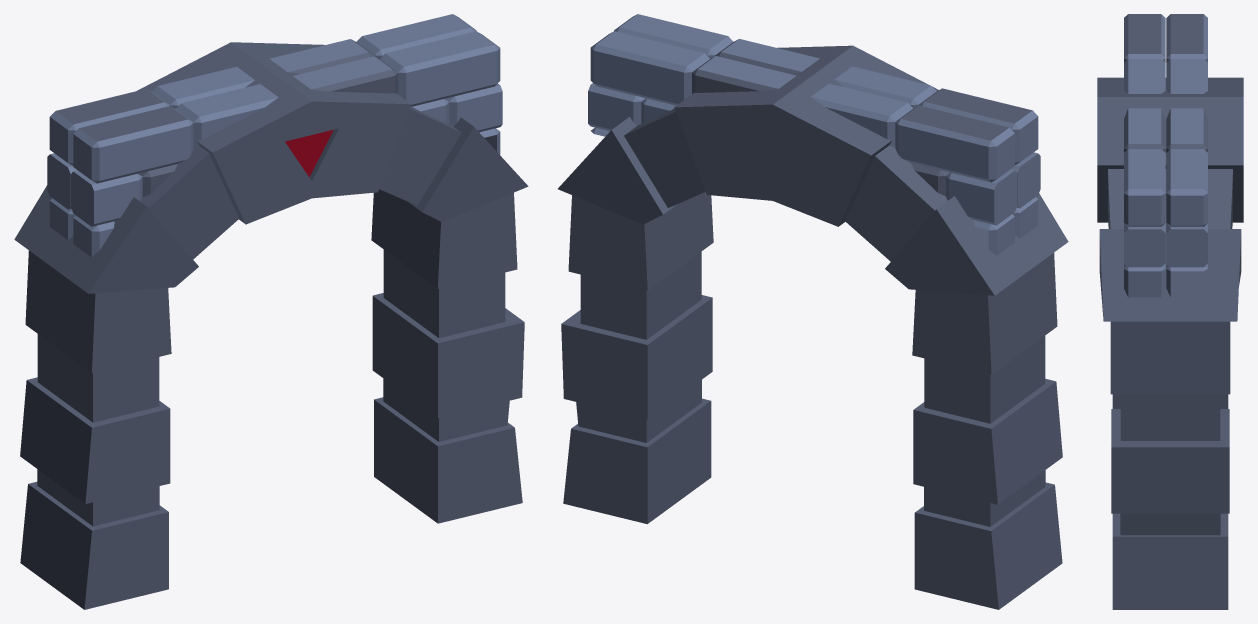
File: gate.fbx
The picture shows the model from 3 angles, left to right: view 1: azimuth 30°, elevation 25°; view 2: azimuth 150°, elevation 25°; view 3: azimuth 270°, elevation 25°; orthographic projection. The views are drawn at different scales.
Visible parts, largest first — view 1: door arc.001; view 2: door arc.001; view 3: door arc.001.
Part boxes in pixels (<box>): door arc.001: <box>14,14,528,609</box>; door arc.001: <box>558,14,1068,609</box>; door arc.001: <box>1097,14,1243,609</box>.
Size of the model in its own units: 110 by 35 by 110.
